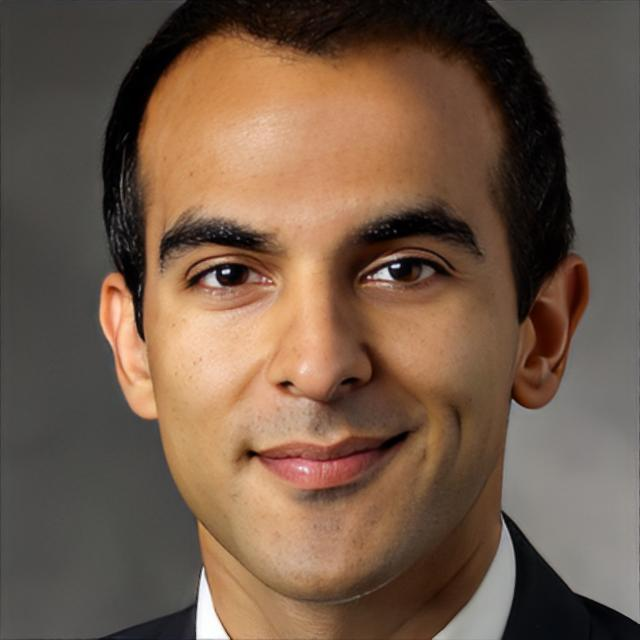content: (145, 38, 520, 596)
